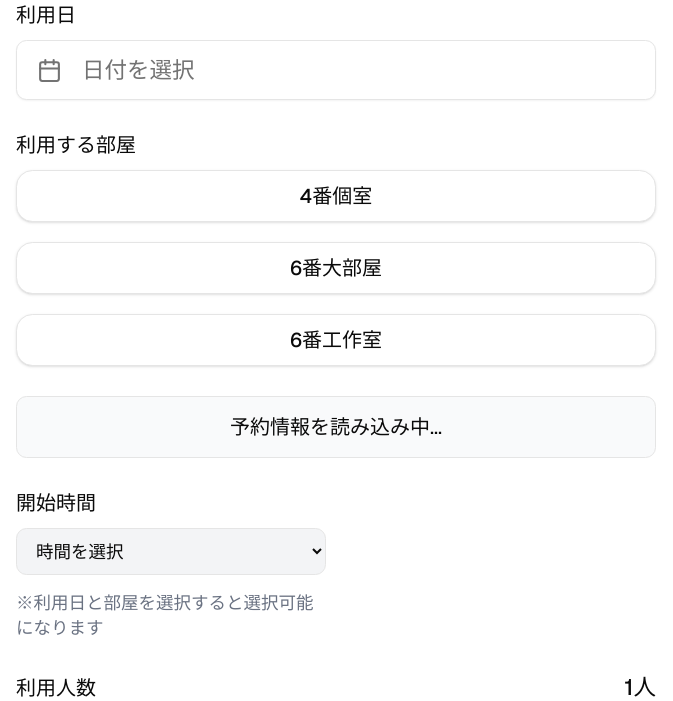
ReservationForm › 人数スライダーが正しく動作する
Click the text "4番個室".
click(336, 196)  # box [300, 183, 372, 209]
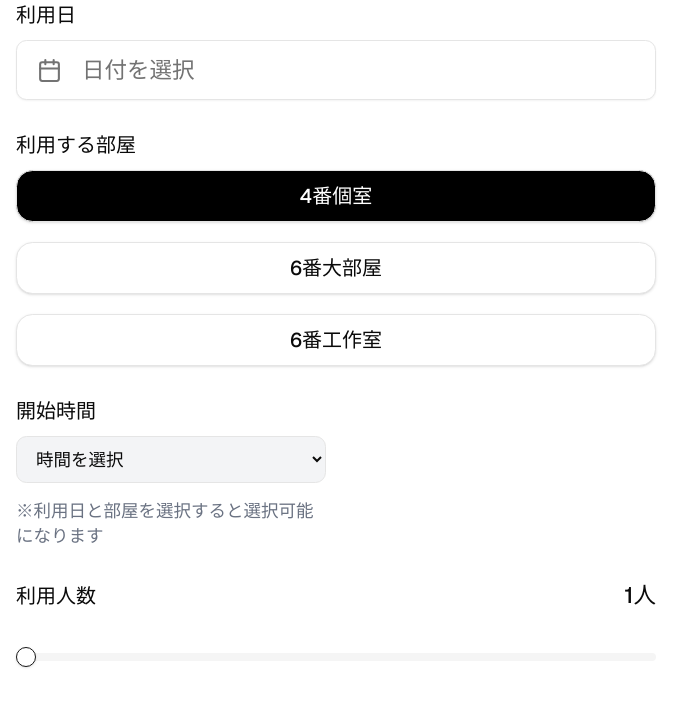
Expected: the text "1人" in the row of "利用人数" is shown, [624, 578, 656, 613]
Click the text "6番大部屋".
click(336, 268)  # box [290, 255, 382, 281]
(page scrolled)
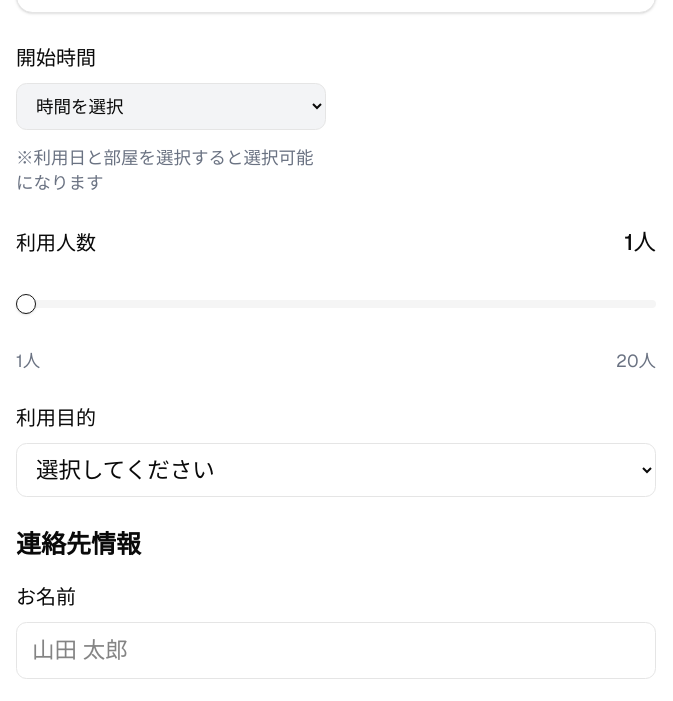
Now the text "20人" is shown, box [616, 348, 656, 372]
